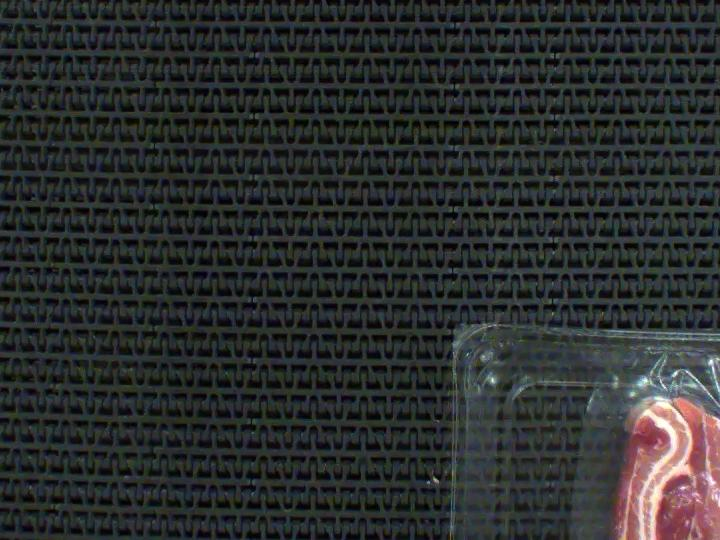unsealed: (498, 311, 720, 540)
